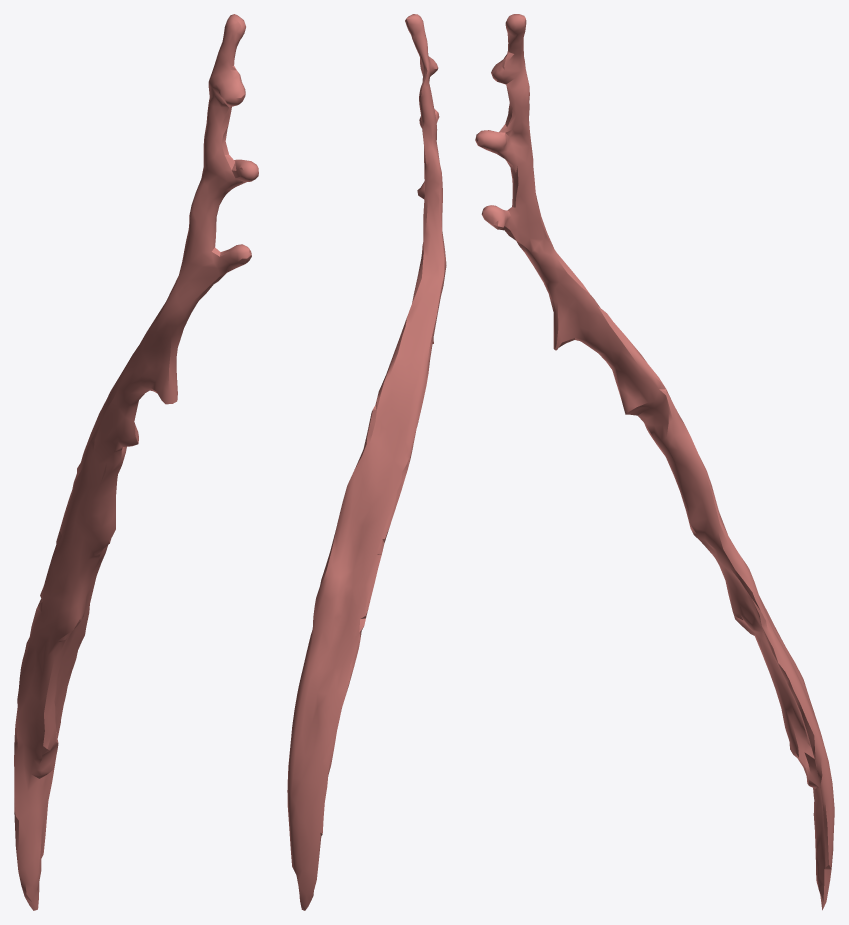
The model's file is fma22757_mm1302m.glb.
The picture shows the model from 3 angles, left to right: view 1: azimuth 30°, elevation 25°; view 2: azimuth 150°, elevation 25°; view 3: azimuth 270°, elevation 25°; orthographic projection. The views are drawn at different scales.
Parts seen in each view (by area): view 1: FMA22757_MM1302M; view 2: FMA22757_MM1302M; view 3: FMA22757_MM1302M.
Boxes of the visible parts, <box> form: FMA22757_MM1302M: <box>14,14,258,910</box>; FMA22757_MM1302M: <box>287,14,446,910</box>; FMA22757_MM1302M: <box>475,14,834,910</box>.
Size of the model in its own units: 0.0169 by 0.1959 by 0.0703.
